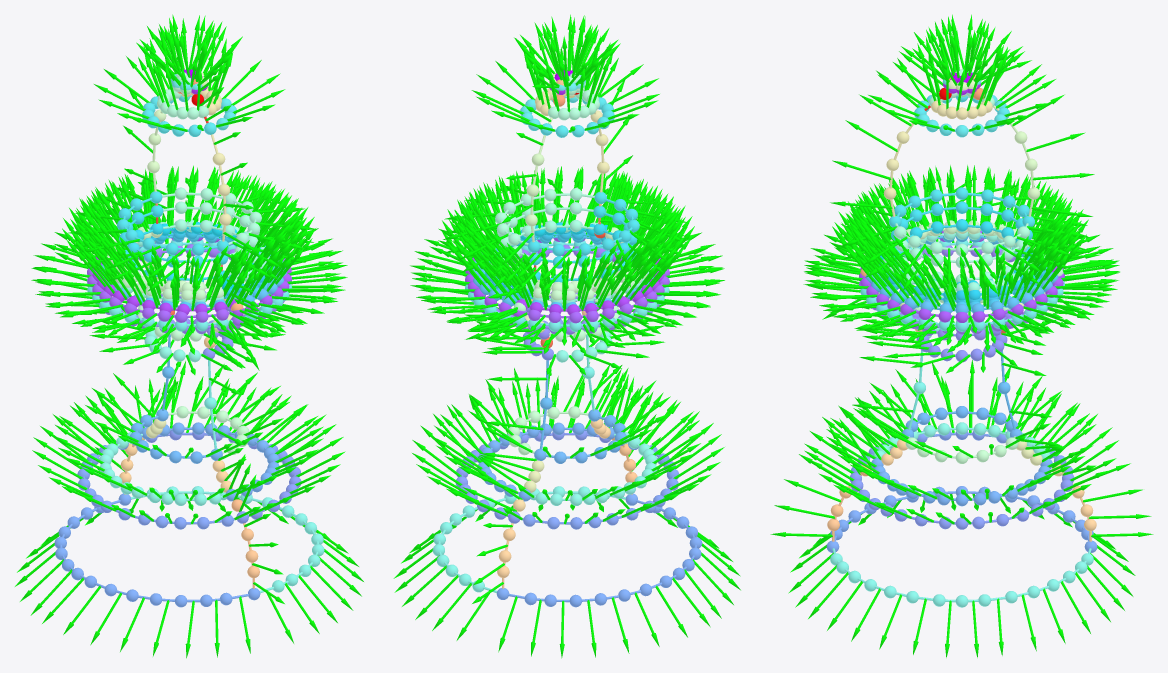
The model's file is onshape_bishop.gltf.
3 views of the same model, side by side, from view 1: azimuth 30°, elevation 25°; view 2: azimuth 150°, elevation 25°; view 3: azimuth 270°, elevation 25° (orthographic).
Size of the model in its own units: 0.5529 by 0.9784 by 0.6069.
